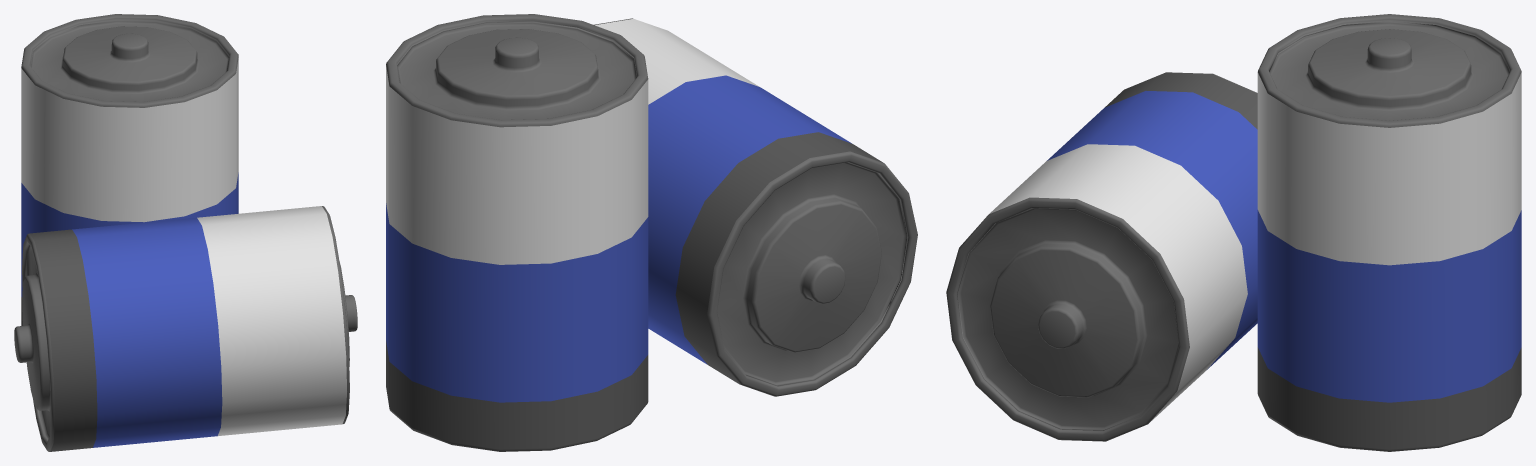
The model's file is Revisi baterai.fbx.
3 renders of one model, left to right at view 1: azimuth 30°, elevation 25°; view 2: azimuth 150°, elevation 25°; view 3: azimuth 270°, elevation 25°, orthographic. The views are drawn at different scales.
Parts seen in each view (by area): view 1: Cylinder.001; view 2: Cylinder.001; view 3: Cylinder.001.
Boxes of the visible parts, left/top/right/bottom form: Cylinder.001: left=14, top=14, right=357, bottom=451; Cylinder.001: left=386, top=14, right=917, bottom=451; Cylinder.001: left=946, top=14, right=1521, bottom=451.
Bounding box in the file's own units: 329 × 436 × 312.
